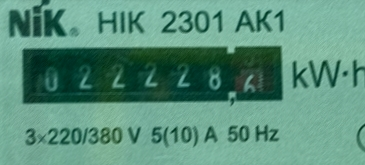0: (41, 64, 57, 93)
2: (74, 61, 93, 91), (173, 61, 191, 90), (140, 60, 157, 88), (108, 61, 124, 90)
5: (239, 48, 255, 68)
6: (239, 71, 256, 92)
8: (205, 63, 221, 91)
screen: (12, 34, 291, 113)
